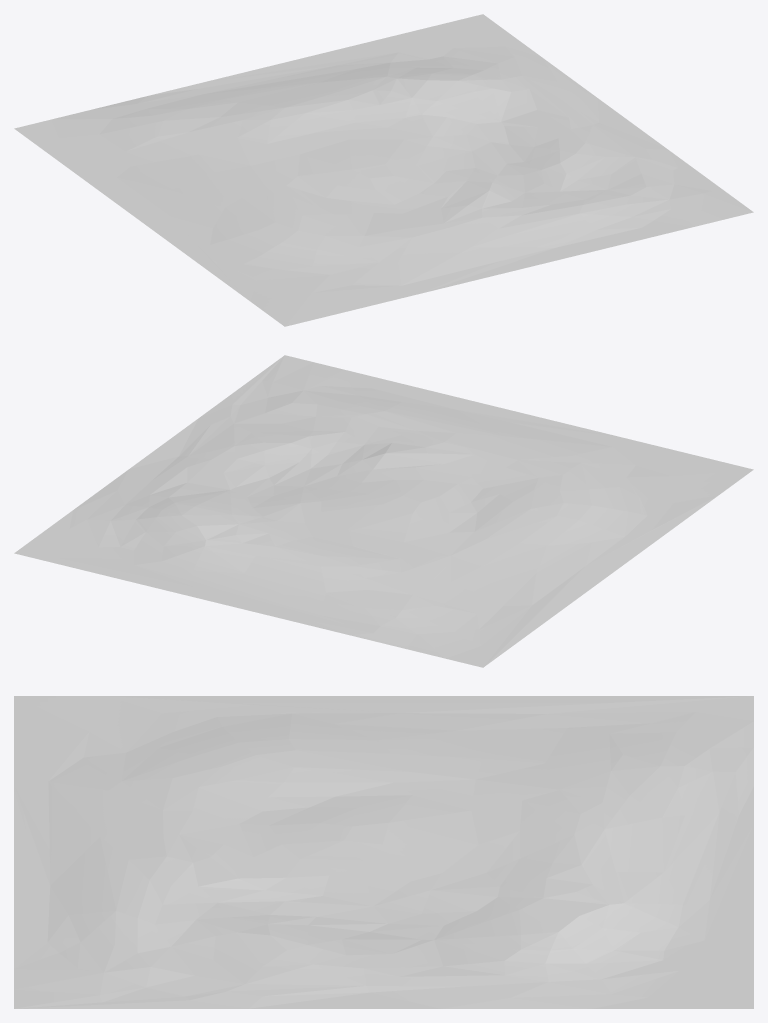
The model's file is Terrain_23.glb.
3 renders of one model, top to bottom at view 1: azimuth 30°, elevation 25°; view 2: azimuth 150°, elevation 25°; view 3: azimuth 270°, elevation 25°, orthographic. The views are drawn at different scales.
Visible parts, largest first — view 1: Terrain_23; view 2: Terrain_23; view 3: Terrain_23.
Part boxes in pixels (x1,y1,x2,y2): Terrain_23: [14, 14, 753, 326]; Terrain_23: [14, 355, 753, 667]; Terrain_23: [14, 696, 753, 1008].
Bounding box in the file's own units: 128 × 2.57 × 128.
1 material, 1 textured.
